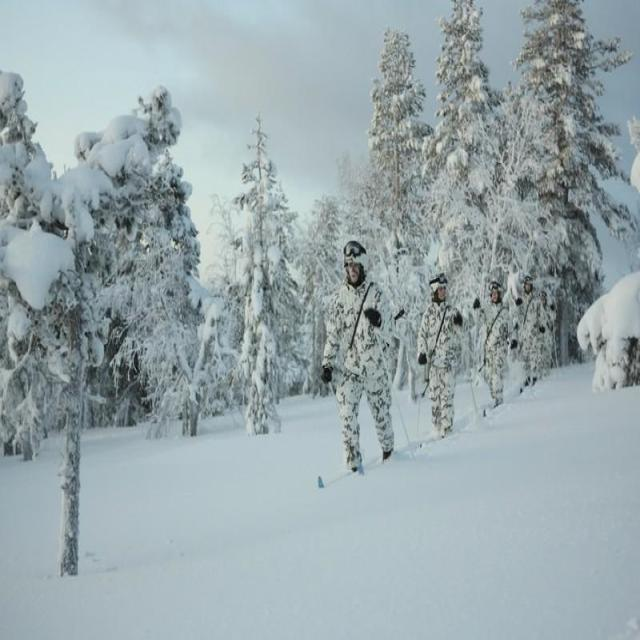Human: (319, 240, 406, 477), (416, 275, 467, 438), (478, 283, 519, 408), (515, 276, 550, 387)
